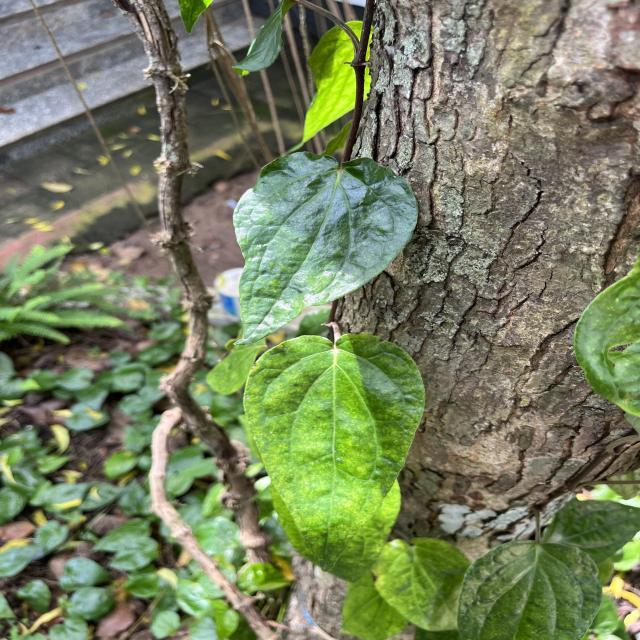Piper betle: (240, 332, 430, 573), (230, 149, 420, 348)
